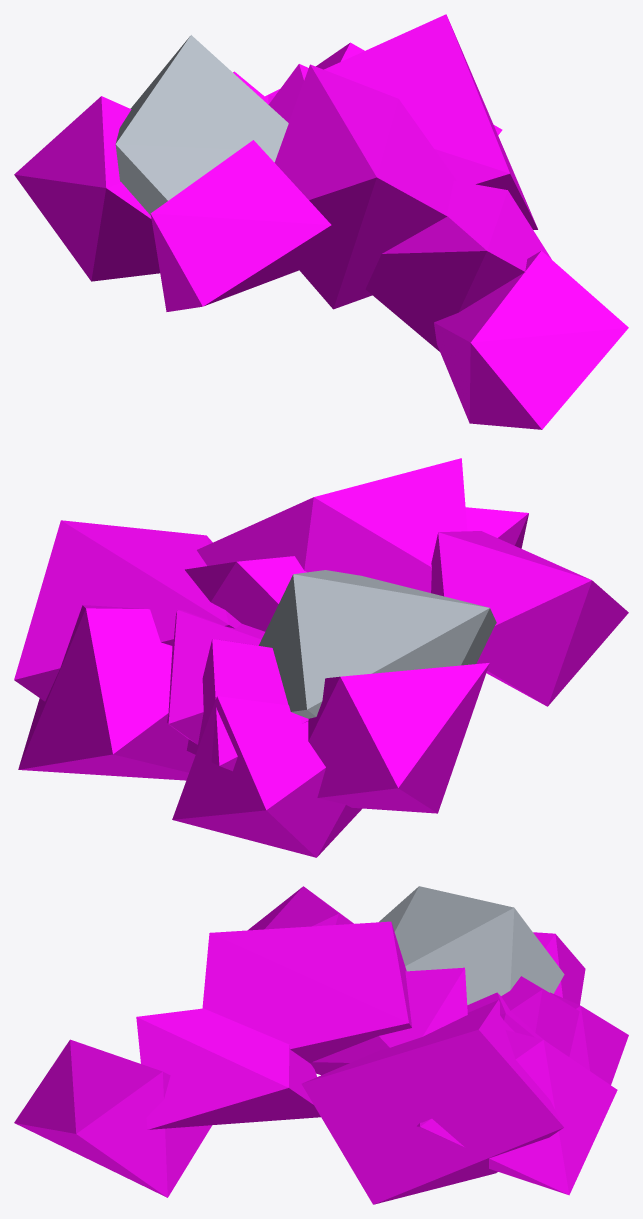
The model's file is objet_minerai.glb.
3 views of the same model, one above another, from view 1: azimuth 30°, elevation 25°; view 2: azimuth 150°, elevation 25°; view 3: azimuth 270°, elevation 25° (orthographic). The views are drawn at different scales.
Parts seen in each view (by area): view 1: minerai_teinte.002, minerai_gris_clair.001; view 2: minerai_teinte.002, minerai_gris_clair.001; view 3: minerai_teinte.002, minerai_gris_clair.001.
Part boxes in pixels (bbox=[...]): minerai_teinte.002: bbox=[14, 14, 628, 429]; minerai_gris_clair.001: bbox=[115, 35, 288, 215]; minerai_teinte.002: bbox=[14, 458, 628, 857]; minerai_gris_clair.001: bbox=[259, 570, 496, 718]; minerai_teinte.002: bbox=[14, 886, 628, 1204]; minerai_gris_clair.001: bbox=[379, 886, 564, 1004].
Bounding box in the file's own units: 0.1667 × 0.0928 × 0.2332.
